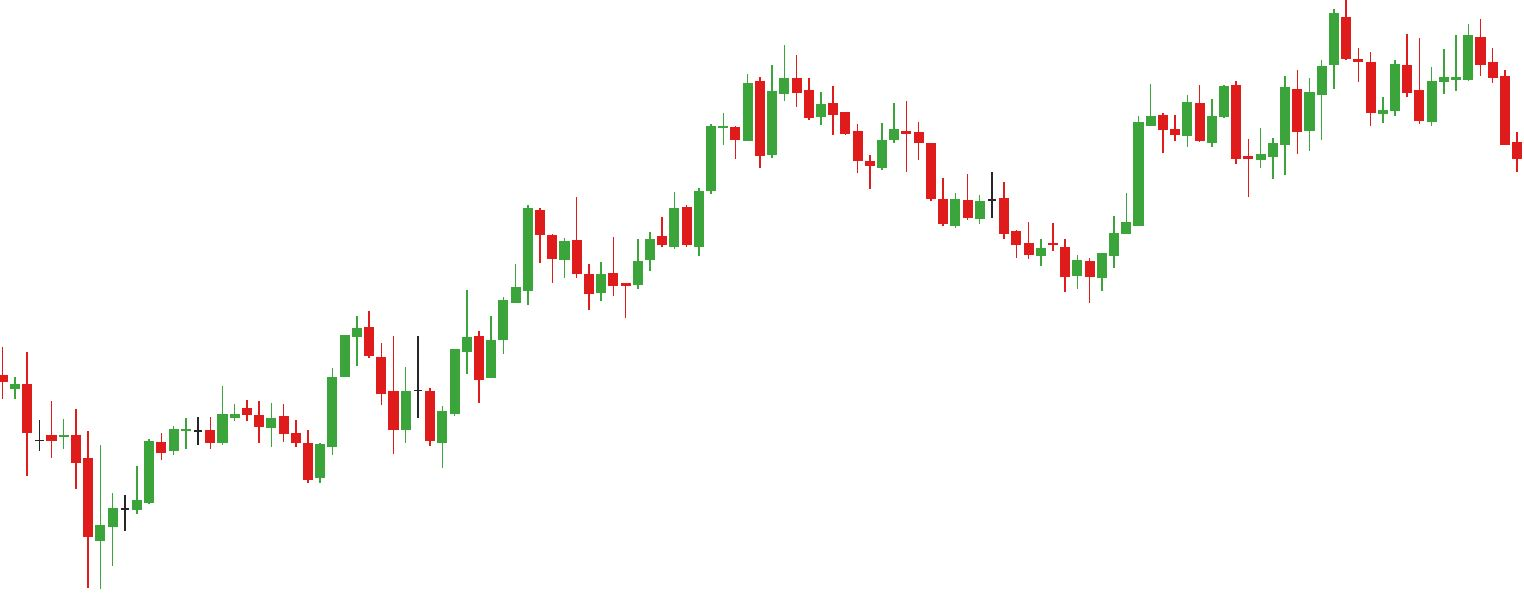buy: (205, 406, 327, 494), (389, 364, 450, 475)
sell: (1399, 17, 1486, 107)
